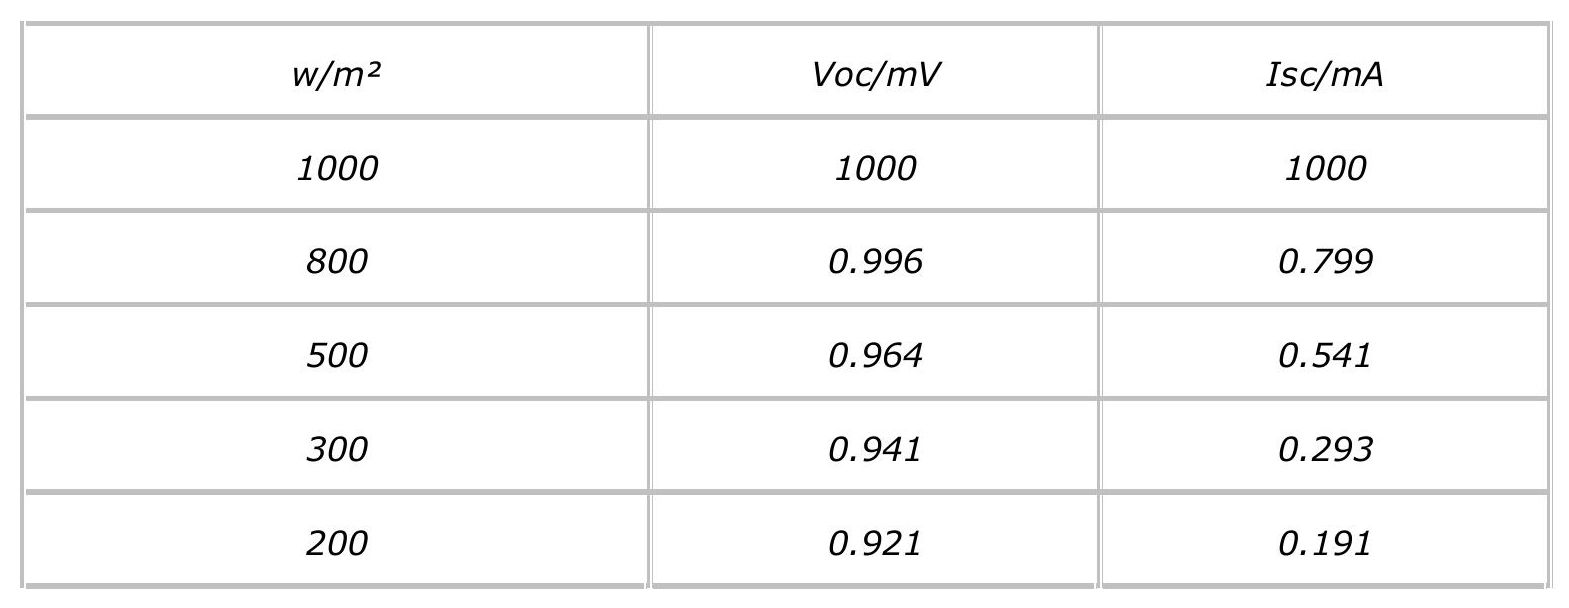table: (3, 9, 1569, 605)
table column: (43, 23, 634, 596), (662, 23, 1093, 598), (1113, 26, 1539, 598)
table column header: (26, 32, 1546, 114)
table row: (32, 312, 1546, 394), (29, 124, 1545, 204), (30, 220, 1545, 299), (31, 499, 1547, 577), (31, 405, 1546, 483), (30, 37, 1544, 111)
